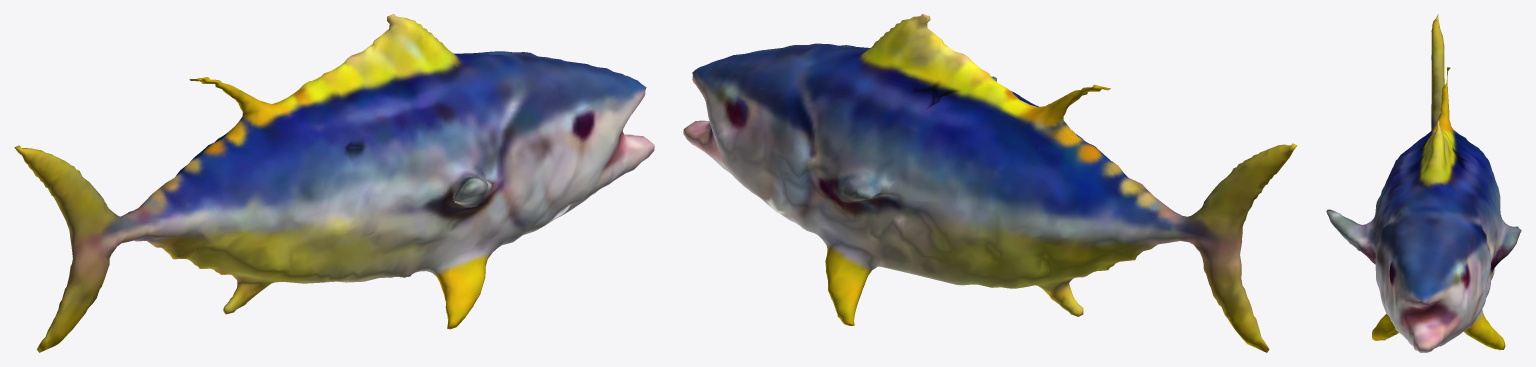
The picture shows the model from 3 angles, left to right: view 1: azimuth 30°, elevation 25°; view 2: azimuth 150°, elevation 25°; view 3: azimuth 270°, elevation 25°; orthographic projection. The views are drawn at different scales.
Parts seen in each view (by area): view 1: Mesh1; view 2: Mesh1; view 3: Mesh1.
Boxes of the visible parts, x1,y1,x2,y2 form: Mesh1: [14, 14, 654, 352]; Mesh1: [683, 14, 1297, 352]; Mesh1: [1326, 14, 1521, 352].
Bounding box in the file's own units: 120 × 52.94 × 43.53.
1 material, 1 textured.
